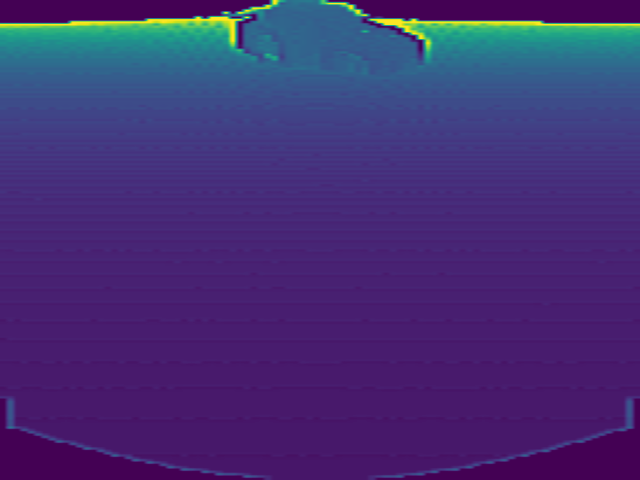car_0027: (231, 1, 429, 76)
